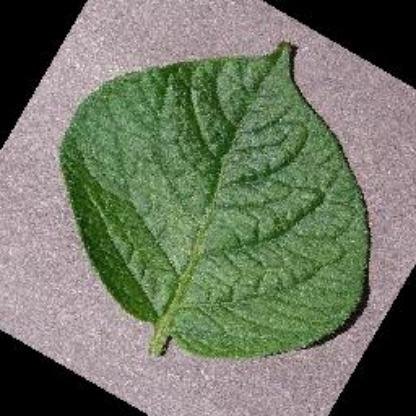Healthy-plant: (57, 30, 381, 360)
